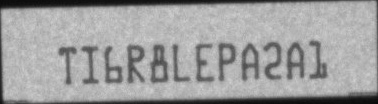1: (309, 40, 328, 80)
2: (264, 41, 283, 81)
6: (104, 44, 122, 83)
8: (150, 41, 168, 83)
A: (241, 40, 259, 82), (286, 41, 305, 80)
E: (195, 43, 215, 83)
I: (81, 45, 99, 84)
L: (172, 44, 191, 82)
P: (218, 41, 238, 82)
R: (125, 43, 146, 85)
T: (58, 45, 78, 85)
